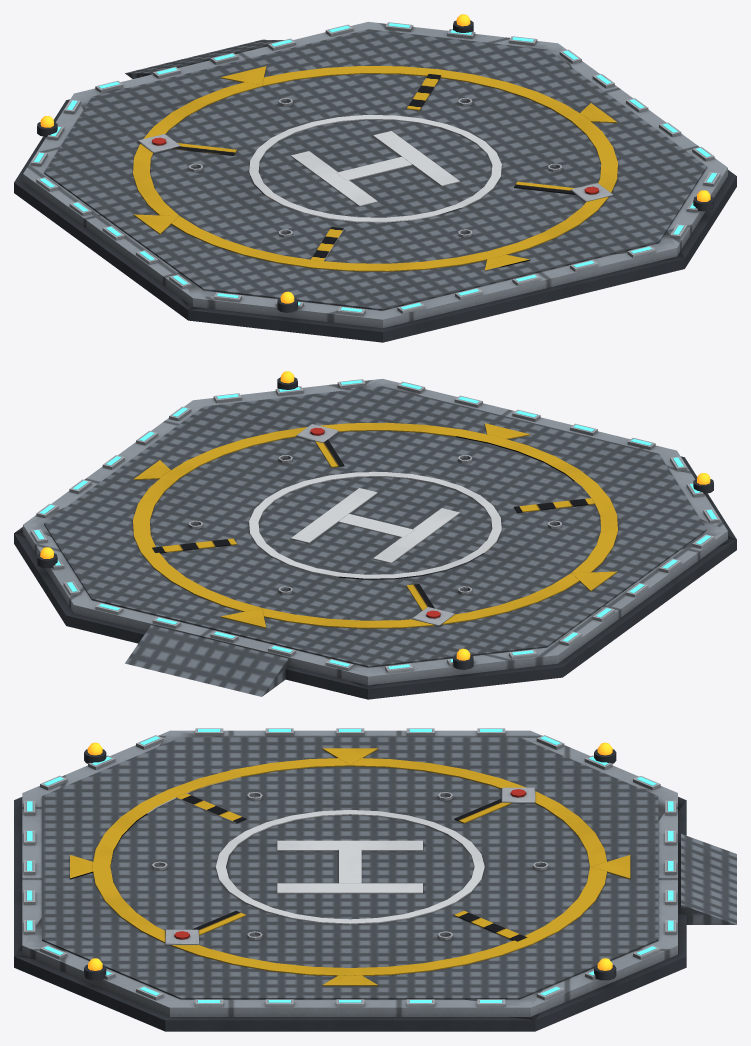
Rendered from plataforma_aterrizaje.fbx.
3 views of the same model, one above another, from view 1: azimuth 30°, elevation 25°; view 2: azimuth 150°, elevation 25°; view 3: azimuth 270°, elevation 25° (orthographic). The views are drawn at different scales.
Visible parts, largest first — view 1: plataforma_aterrizaje, plataforma_aterrizaje_neon, plataforma_aterrizaje_naranja_neon; view 2: plataforma_aterrizaje, plataforma_aterrizaje_neon, plataforma_aterrizaje_naranja_neon; view 3: plataforma_aterrizaje, plataforma_aterrizaje_neon, plataforma_aterrizaje_naranja_neon.
Boxes of the visible parts, x1,y1,x2,y2 form: plataforma_aterrizaje: (14, 20, 736, 342); plataforma_aterrizaje_neon: (34, 23, 716, 311); plataforma_aterrizaje_naranja_neon: (40, 14, 710, 303); plataforma_aterrizaje: (14, 377, 736, 699); plataforma_aterrizaje_neon: (34, 380, 716, 669); plataforma_aterrizaje_naranja_neon: (40, 371, 710, 660); plataforma_aterrizaje: (14, 728, 736, 1031); plataforma_aterrizaje_neon: (27, 729, 673, 1002); plataforma_aterrizaje_naranja_neon: (87, 742, 612, 970).
Size of the model in its own units: 12 by 0.7604 by 12.9.
2 materials, 2 textured.
